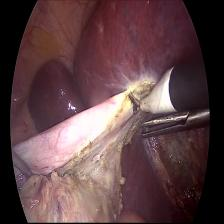Grasper: (11, 139, 42, 197), (140, 113, 196, 143)
Hook: (123, 60, 172, 119)
